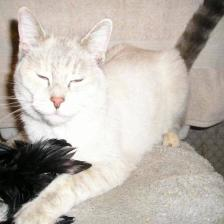cat: (10, 4, 118, 129)
